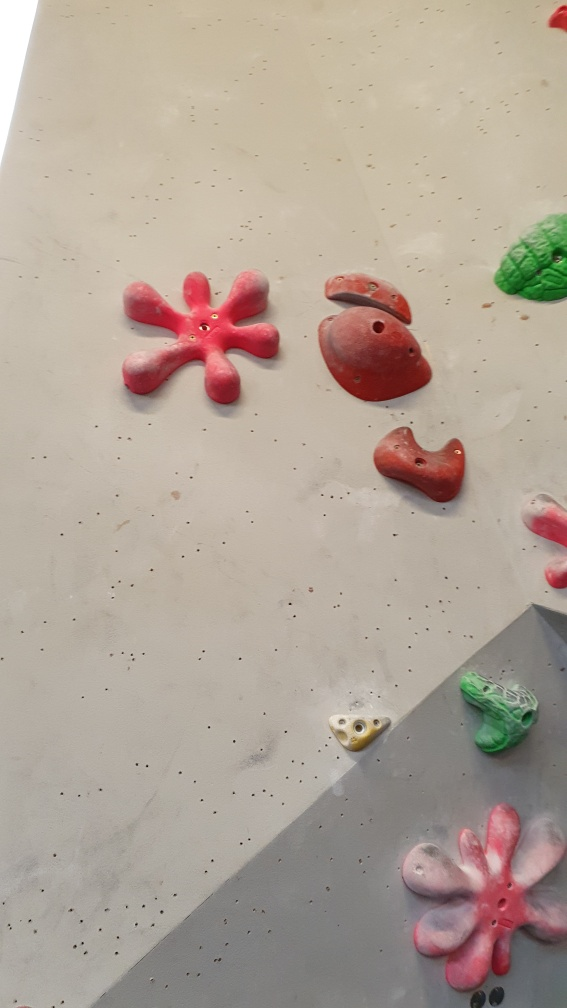Octopus Pinch: (403, 805, 565, 990), (121, 267, 283, 407)
Sloper: (319, 303, 439, 400)
